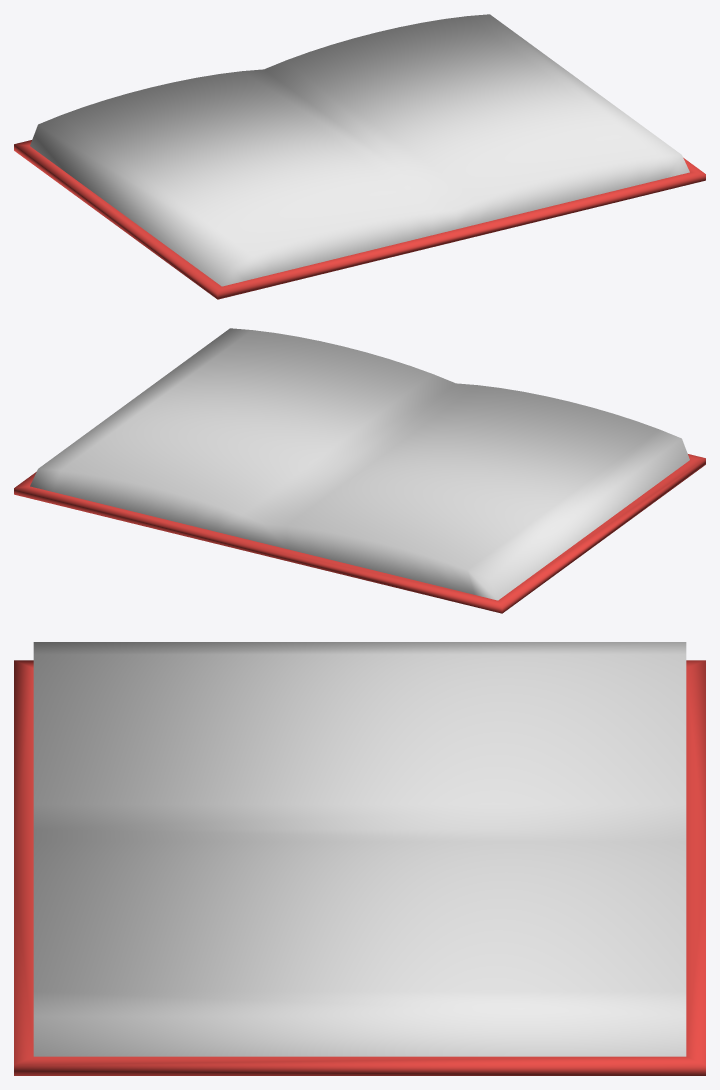
File: otwartaksiazka.fbx
3 renders of one model, top to bottom at view 1: azimuth 30°, elevation 25°; view 2: azimuth 150°, elevation 25°; view 3: azimuth 270°, elevation 25°, orthographic. The views are drawn at different scales.
Visible parts, largest first — view 1: Cube.003; view 2: Cube.003; view 3: Cube.003.
Part boxes in pixels (x1=…): Cube.003: x1=14, y1=14, x2=705, y2=299; Cube.003: x1=14, y1=328, x2=705, y2=613; Cube.003: x1=14, y1=642, x2=705, y2=1075.
Size of the model in its own units: 823 by 57.05 by 594.
